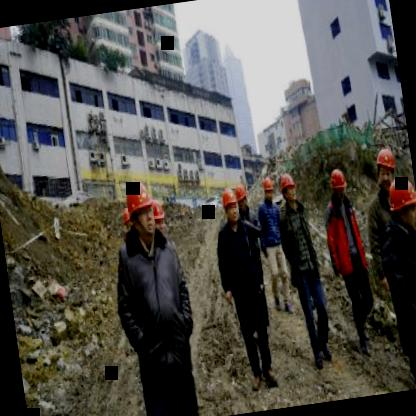helmet: (118, 177, 159, 245), (382, 173, 416, 238), (370, 141, 402, 186), (148, 190, 171, 244), (217, 180, 240, 226), (328, 162, 352, 204), (276, 169, 301, 208), (233, 178, 252, 219), (259, 174, 277, 206)
